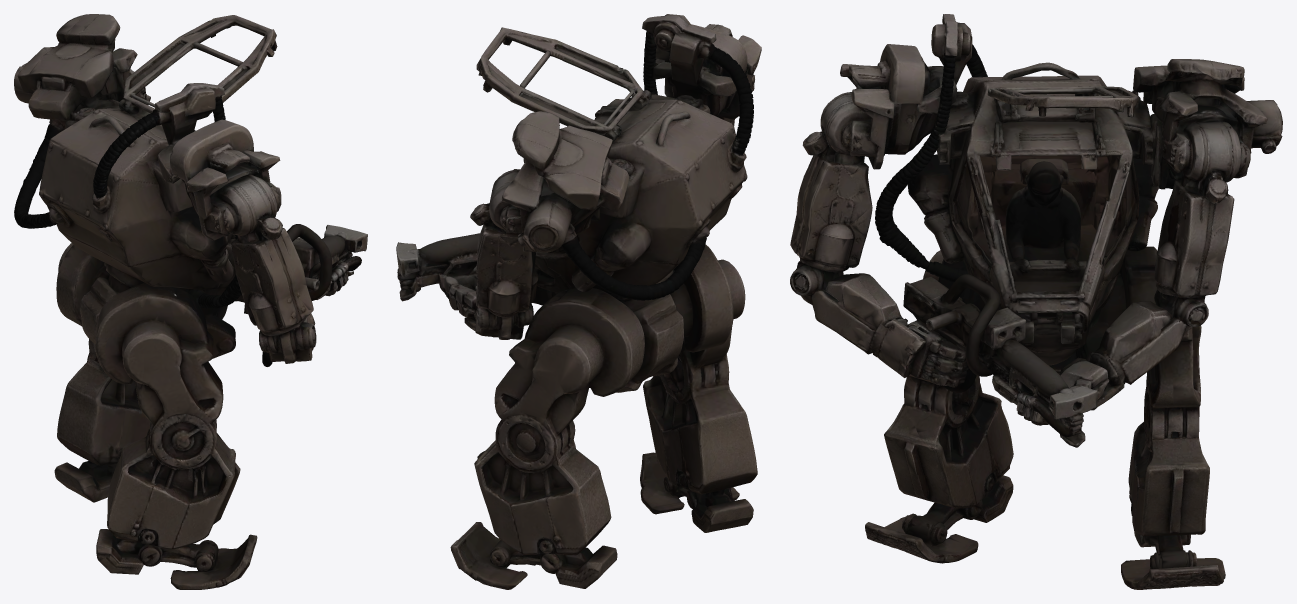
Rendered from avatar.glb.
3 views of the same model, side by side, from view 1: azimuth 30°, elevation 25°; view 2: azimuth 150°, elevation 25°; view 3: azimuth 270°, elevation 25° (orthographic). The views are drawn at different scales.
Visible parts, largest first — view 1: tripo_node_b01e51fd-5001-473d-a8df-66caf5eaf478; view 2: tripo_node_b01e51fd-5001-473d-a8df-66caf5eaf478; view 3: tripo_node_b01e51fd-5001-473d-a8df-66caf5eaf478.
Boxes of the visible parts, x1=… form: tripo_node_b01e51fd-5001-473d-a8df-66caf5eaf478: x1=14, y1=14, x2=367, y2=589; tripo_node_b01e51fd-5001-473d-a8df-66caf5eaf478: x1=396, y1=14, x2=761, y2=589; tripo_node_b01e51fd-5001-473d-a8df-66caf5eaf478: x1=790, y1=14, x2=1282, y2=589.
Size of the model in its own units: 0.6699 by 0.9809 by 0.8312.
1 material, 1 textured.
